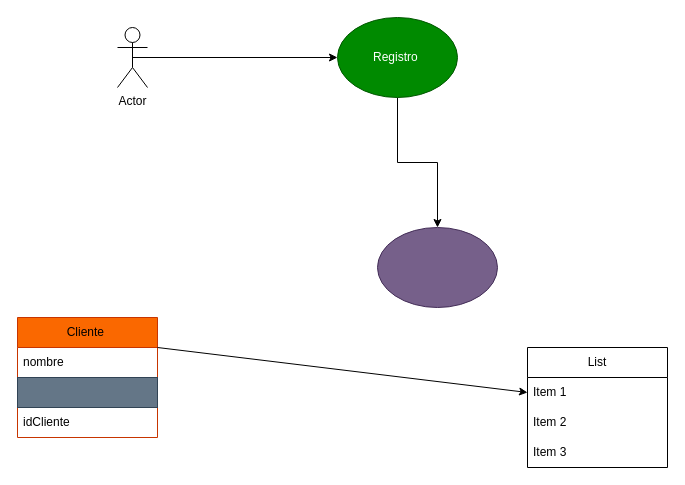
Image size: 685x485. Some labels were removed from this diagram. Each missing label, with the box of its shape:
apellidos: (16, 376, 158, 408)
Login: (376, 226, 498, 308)
